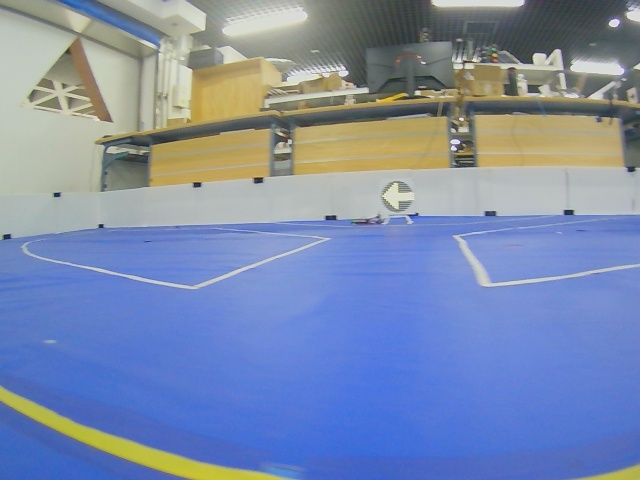left_yellow: (382, 181, 415, 212)
